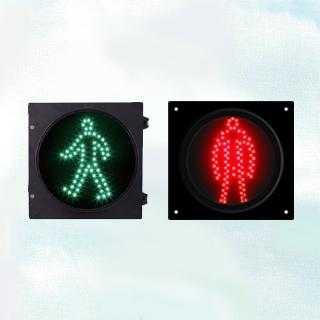green: (27, 102, 146, 221)
red: (168, 99, 295, 220)
